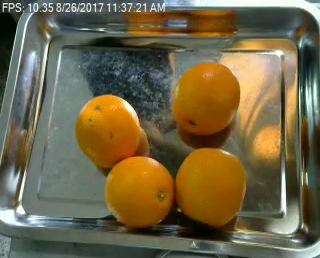Orange: (173, 145, 244, 226), (103, 155, 172, 228), (172, 61, 240, 135), (75, 92, 140, 167)
